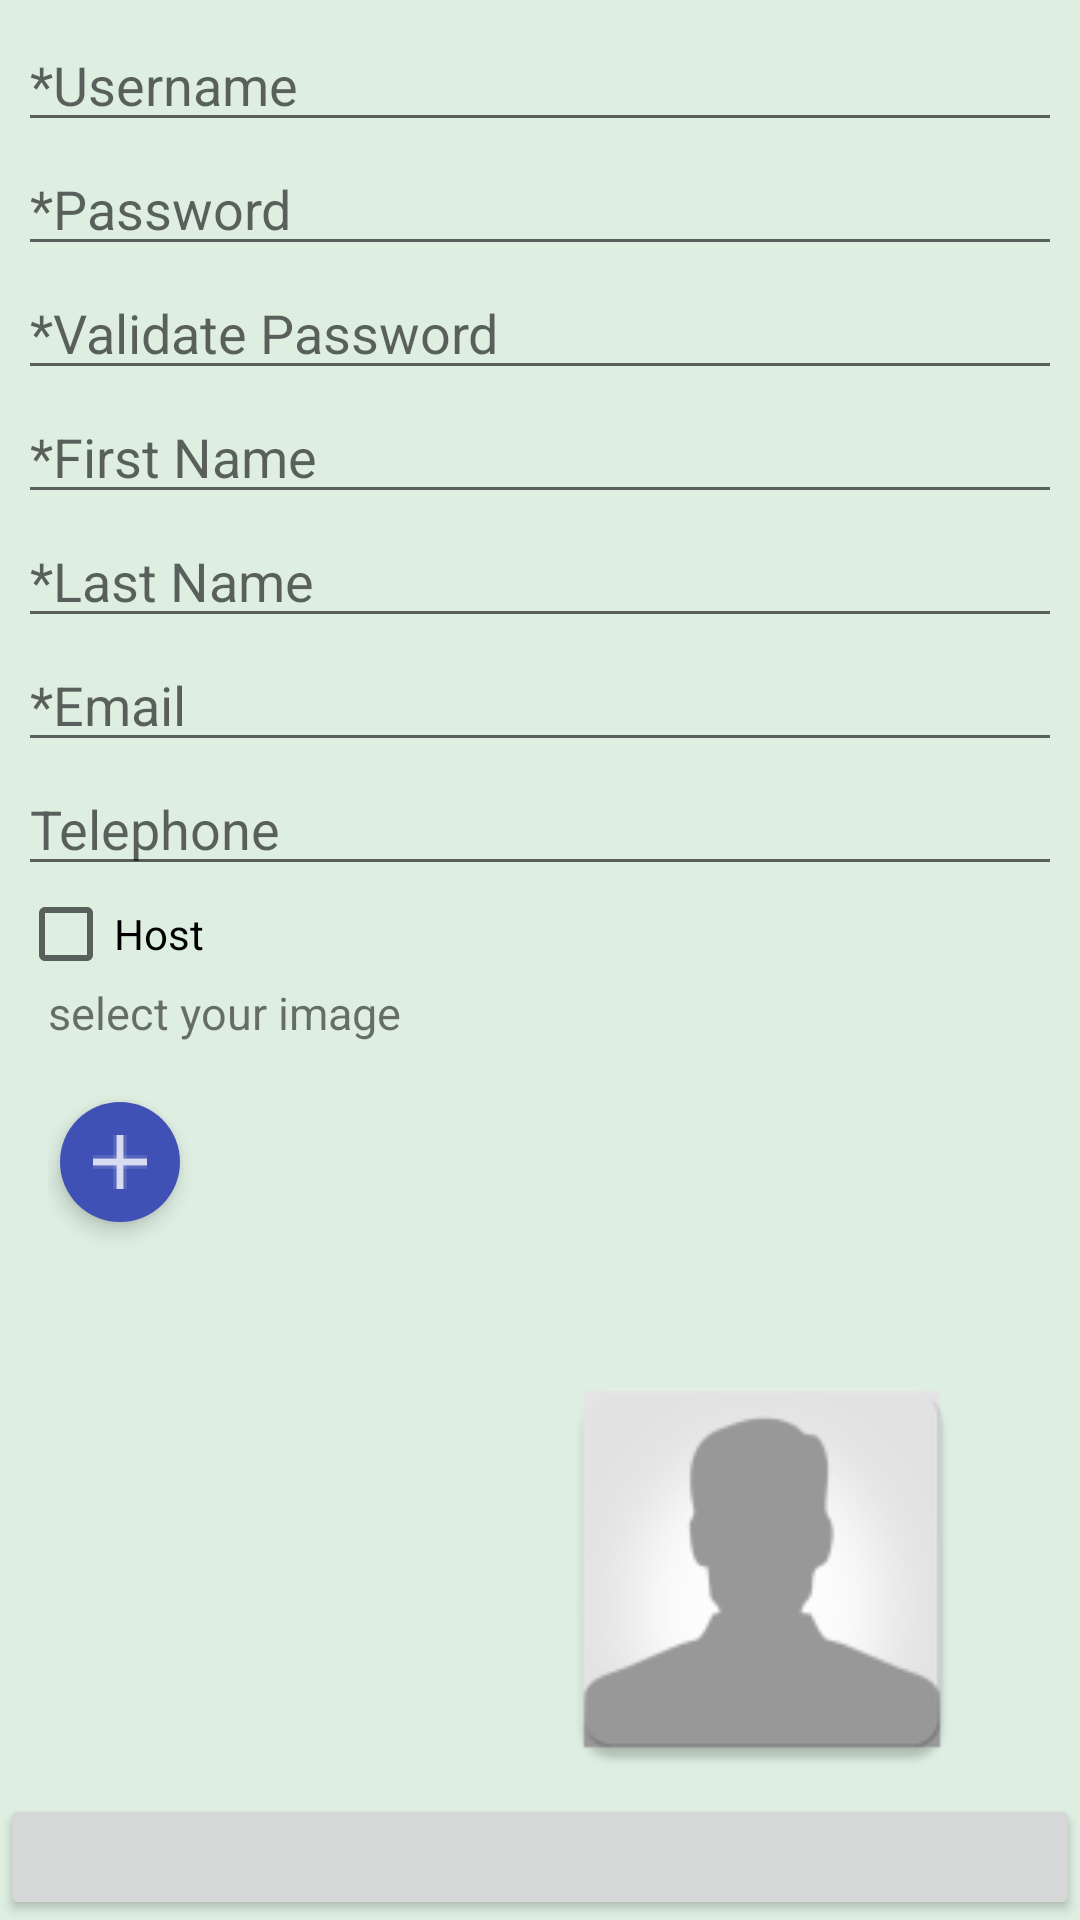

Named icons in this screenshot (1080 × 1920) and their centers, (x,y):
defaultimage: (762,1581)
plus: (120,1162)
